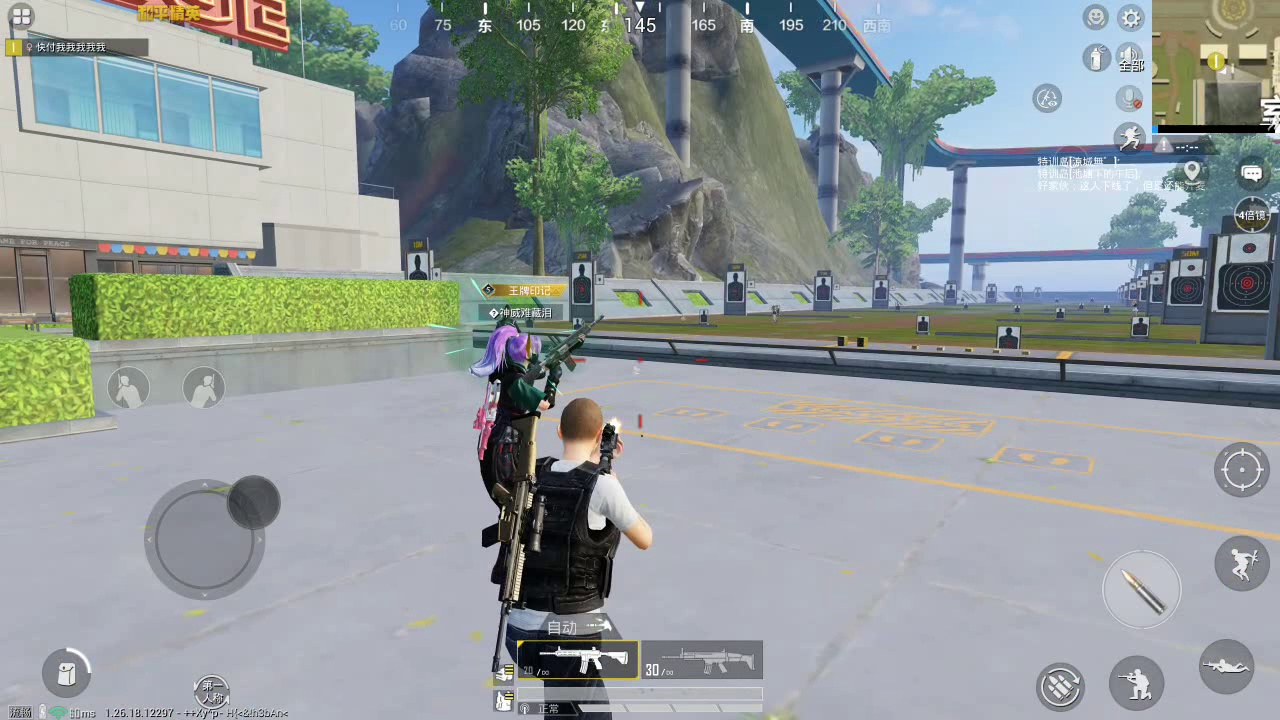enemy: (475, 320, 541, 544)
